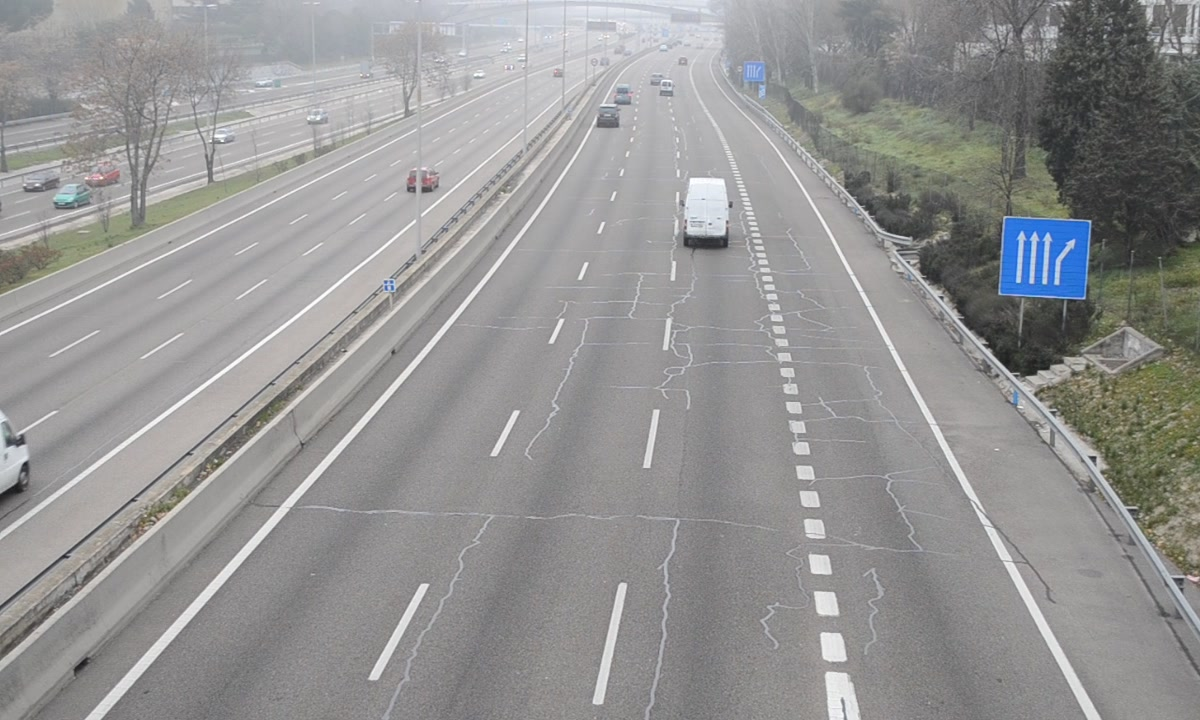car: (597, 102, 622, 129)
van: (682, 177, 732, 248)
